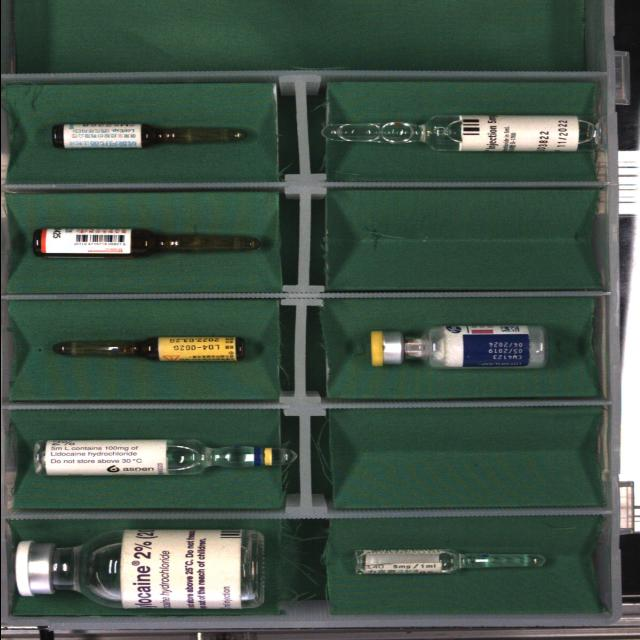Vials: (14, 530, 263, 610), (369, 326, 545, 369)
